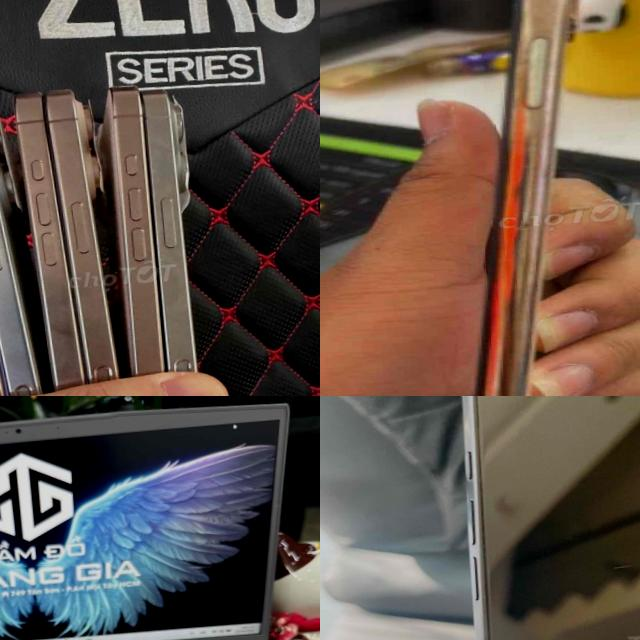gen_16: (463, 396, 640, 640), (141, 77, 230, 396)
gen_x_xs: (474, 0, 575, 396)
